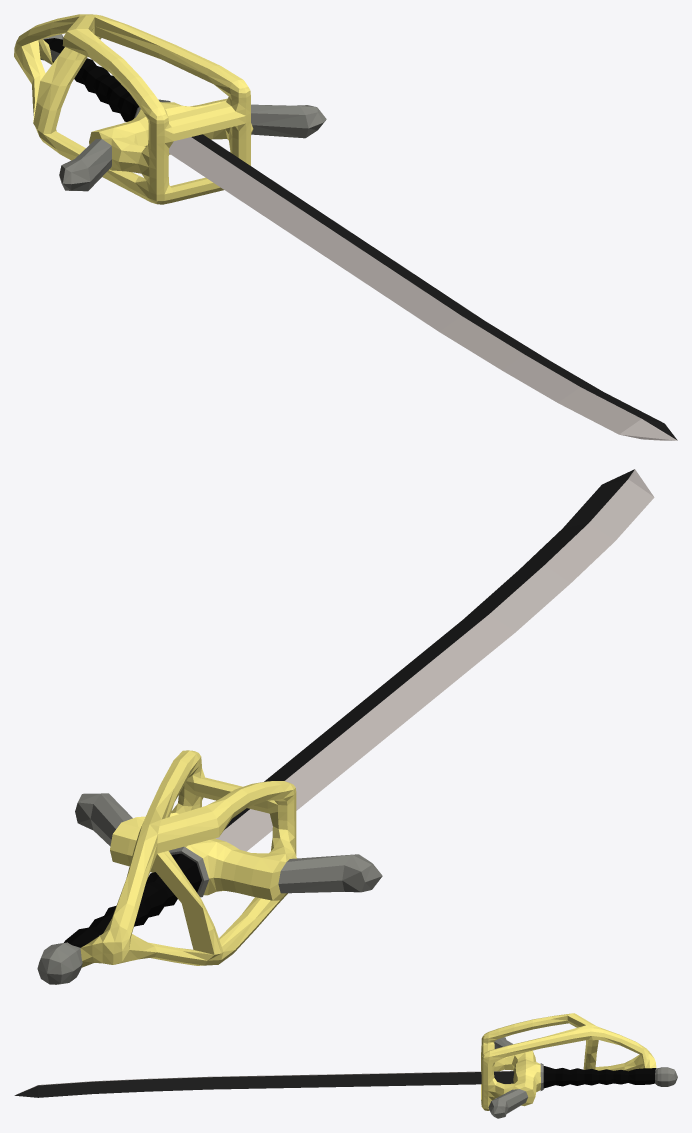
Rendered from Sword3.dae.
The picture shows the model from 3 angles, top to bottom: view 1: azimuth 30°, elevation 25°; view 2: azimuth 150°, elevation 25°; view 3: azimuth 270°, elevation 25°; orthographic projection. The views are drawn at different scales.
Parts seen in each view (by area): view 1: Cube.002, Cube; view 2: Cube.002, Cube; view 3: Cube.002, Cube.
Part boxes in pixels (x1=…): Cube.002: x1=14, y1=14, x2=326, y2=204; Cube: x1=169, y1=134, x2=677, y2=440; Cube.002: x1=37, y1=750, x2=382, y2=984; Cube: x1=215, y1=469, x2=654, y2=851; Cube.002: x1=481, y1=1013, x2=677, y2=1118; Cube: x1=14, y1=1071, x2=514, y2=1097.
Bounding box in the file's own units: 11.54 × 43.7 × 5.23.
